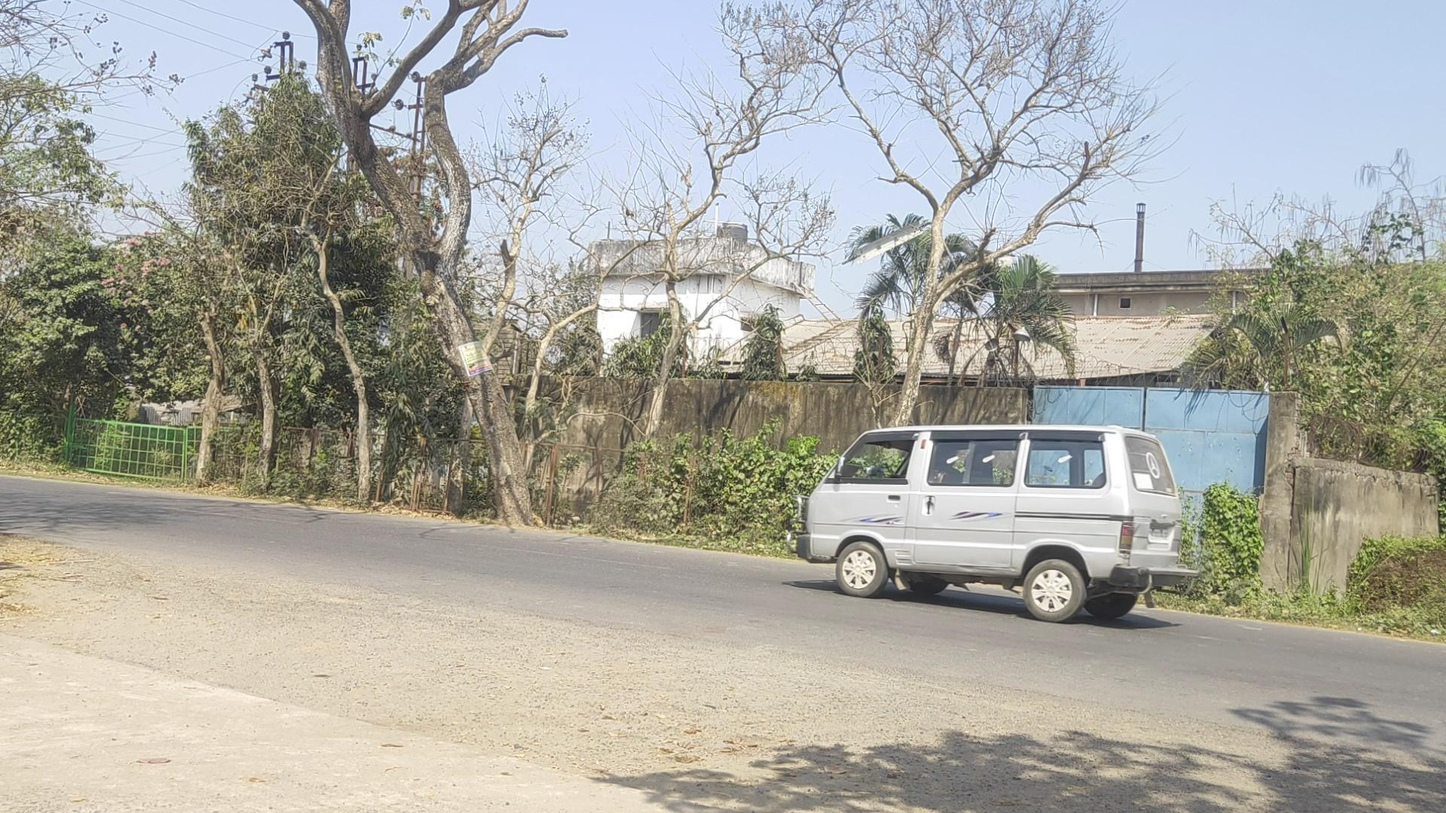van: (785, 423, 1199, 623)
